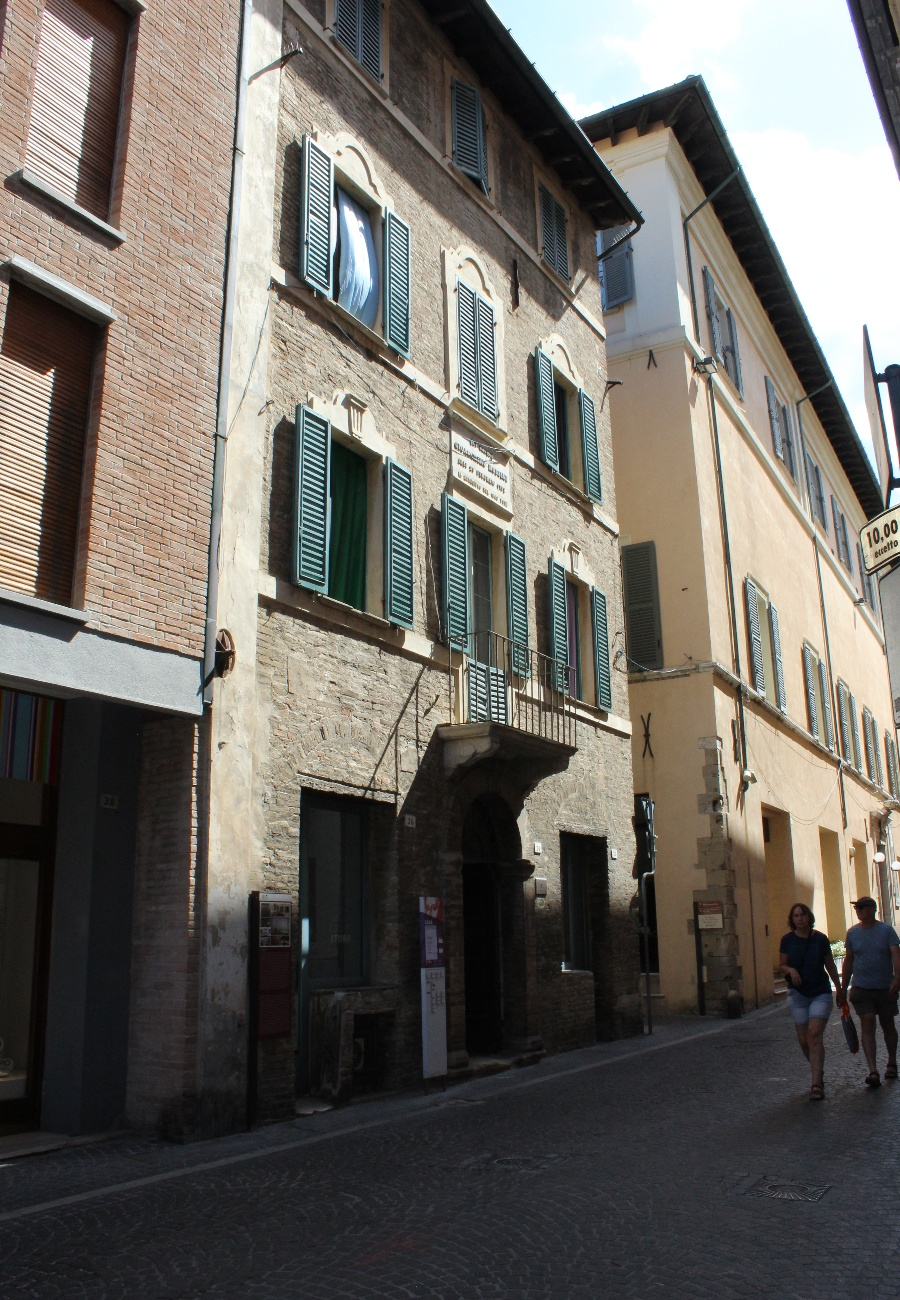Casa Rossini: (227, 1, 654, 1126)
